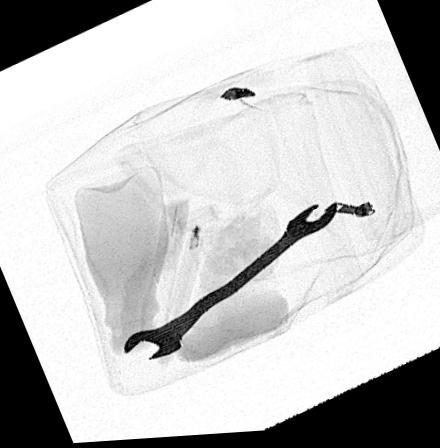Wrench: (123, 204, 339, 363)
